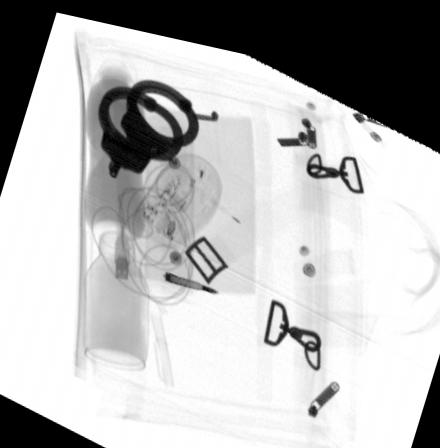Bullet: (162, 264, 218, 283)
HandCuffs: (98, 69, 200, 173)
